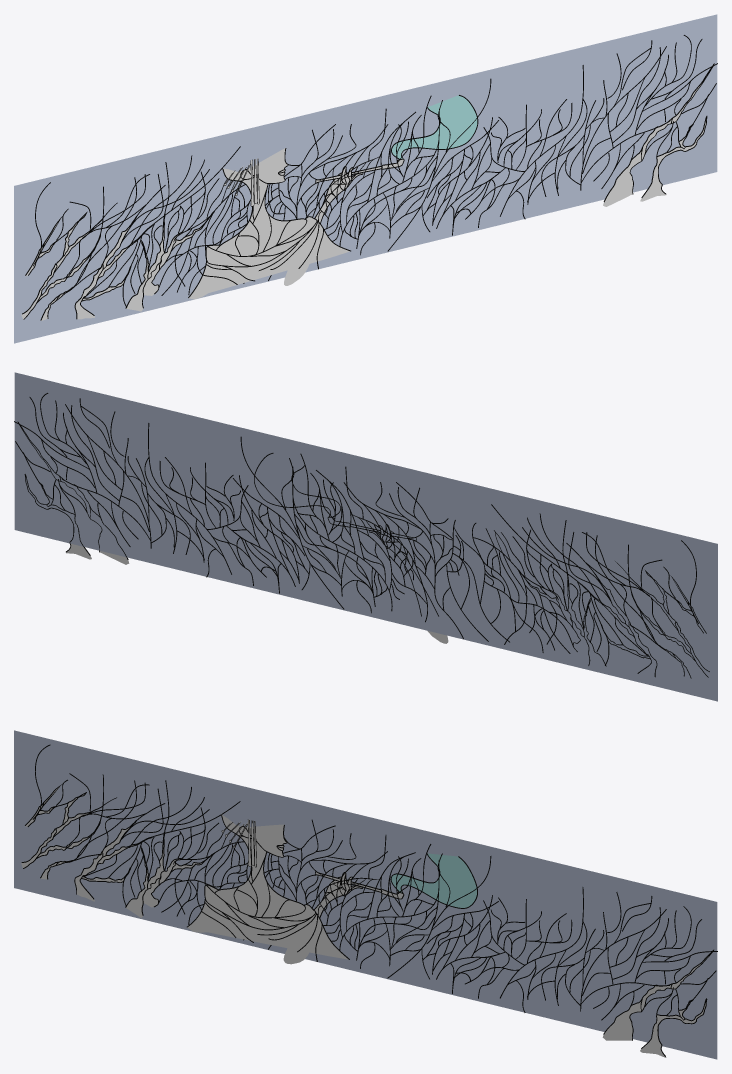
File: Oiran.fbx
The picture shows the model from 3 angles, top to bottom: view 1: azimuth 30°, elevation 25°; view 2: azimuth 150°, elevation 25°; view 3: azimuth 330°, elevation 25°; orthographic projection.
Parts seen in each view (by area): view 1: OR_bg_glss_GEO1, OR_bg_frame_GEO, Yujo_body_glass_GEO, Smoke_Base_GEO, Yujo_body_frame_GEO, Yujo_arm_glass_GEO, Branch_glass_GEO6, Branch_glass_GE5, Branch_frame_GEO2, Branch_frame_GEO4, Branch_frame_GEO5, Branch_glass_GEO4 (+2 smaller); view 2: OR_bg_glss_GEO1, OR_bg_frame_GEO, Branch_frame_GEO2, Branch_frame_GEO4, Yujo_arm_frame_GEO, Branch_frame_GEO5; view 3: OR_bg_glss_GEO1, OR_bg_frame_GEO, Yujo_body_glass_GEO, Smoke_Base_GEO, Yujo_body_frame_GEO, Yujo_arm_glass_GEO, Branch_glass_GEO6, Branch_glass_GE5, Branch_frame_GEO5, Branch_glass_GEO4, Branch_frame_GEO2, Branch_frame_GEO4 (+2 smaller).
Boxes of the visible parts, <box> form: OR_bg_glss_GEO1: <box>14,14,717,343</box>; OR_bg_frame_GEO: <box>33,35,717,306</box>; Yujo_body_glass_GEO: <box>189,148,349,299</box>; Smoke_Base_GEO: <box>391,95,478,159</box>; Yujo_body_frame_GEO: <box>188,148,350,297</box>; Yujo_arm_glass_GEO: <box>284,159,403,285</box>; Branch_glass_GEO6: <box>603,84,701,206</box>; Branch_glass_GE5: <box>126,227,201,311</box>; Branch_frame_GEO2: <box>22,202,117,319</box>; Branch_frame_GEO4: <box>74,216,152,319</box>; Branch_frame_GEO5: <box>125,209,215,308</box>; Branch_glass_GEO4: <box>75,227,133,319</box>; OR_bg_glss_GEO1: <box>14,372,717,701</box>; OR_bg_frame_GEO: <box>14,393,698,665</box>; Branch_frame_GEO2: <box>615,561,709,677</box>; Branch_frame_GEO4: <box>580,574,657,677</box>; Yujo_arm_frame_GEO: <box>327,516,438,616</box>; Branch_frame_GEO5: <box>519,570,606,666</box>; OR_bg_glss_GEO1: <box>14,730,717,1059</box>; OR_bg_frame_GEO: <box>32,744,717,1020</box>; Yujo_body_glass_GEO: <box>187,814,348,959</box>; Smoke_Base_GEO: <box>390,853,477,908</box>; Yujo_body_frame_GEO: <box>187,815,349,961</box>; Yujo_arm_glass_GEO: <box>283,872,403,964</box>; Branch_glass_GEO6: <box>602,956,708,1040</box>; Branch_glass_GE5: <box>126,845,201,917</box>; Branch_frame_GEO5: <box>125,832,214,915</box>; Branch_glass_GEO4: <box>75,827,133,901</box>; Branch_frame_GEO2: <box>21,792,116,868</box>; Branch_frame_GEO4: <box>74,820,152,899</box>.
Size of the model in its own units: 31.39 by 7.2 by 0.1394.
